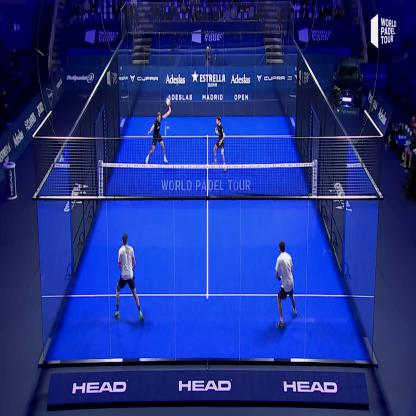ball: (165, 122, 172, 136)
